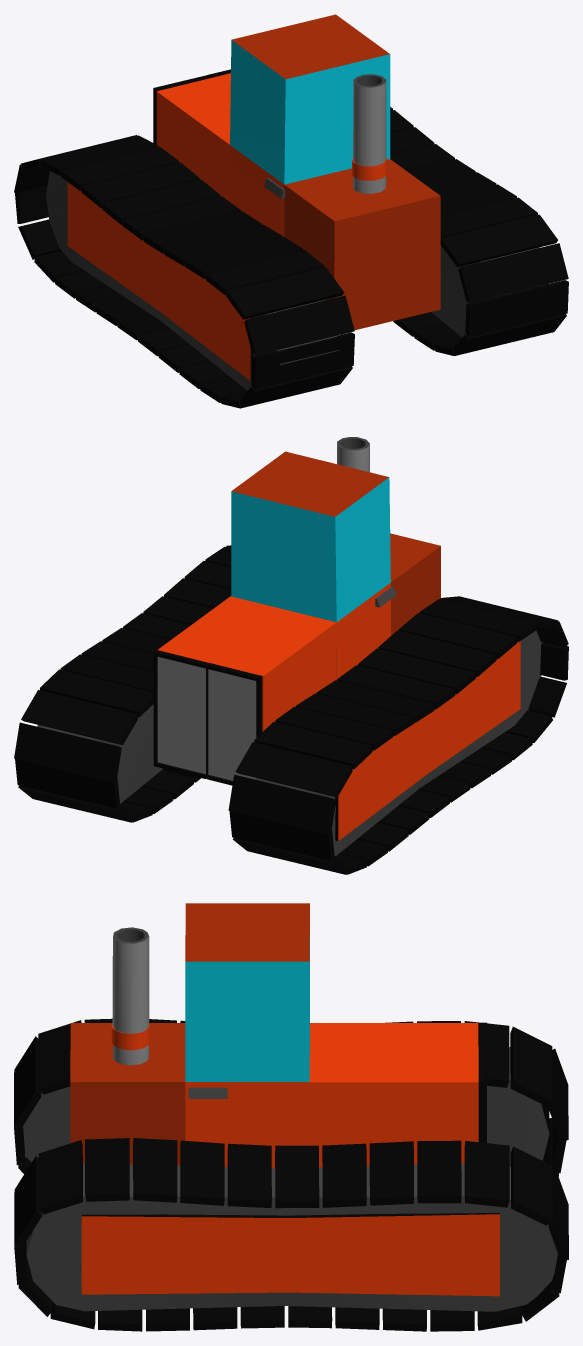
File: Bulldozer_Body.fbx
The picture shows the model from 3 angles, top to bottom: view 1: azimuth 30°, elevation 25°; view 2: azimuth 150°, elevation 25°; view 3: azimuth 270°, elevation 25°; orthographic projection. The views are drawn at different scales.
Visible parts, largest first — view 1: Bulldozer_Zone1; view 2: Bulldozer_Zone1; view 3: Bulldozer_Zone1.
Part boxes in pixels (x1=…): Bulldozer_Zone1: x1=14, y1=14, x2=568, y2=408; Bulldozer_Zone1: x1=14, y1=437, x2=568, y2=874; Bulldozer_Zone1: x1=14, y1=903, x2=568, y2=1331.
Size of the model in its own units: 775 by 645 by 1036.
Materials: 1 (1 with a texture image).
